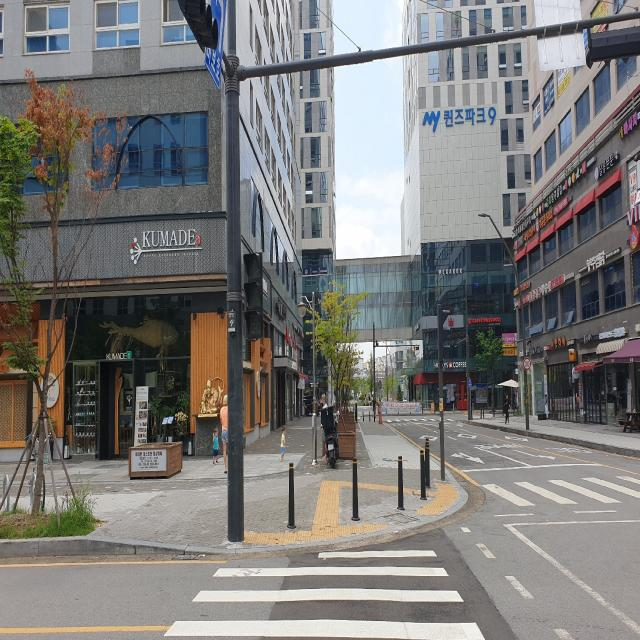횡단보도: (160, 548, 486, 640), (491, 477, 640, 503)
